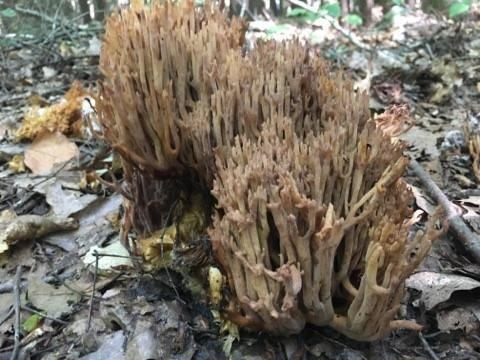edible_mushroom: (92, 0, 449, 343)
